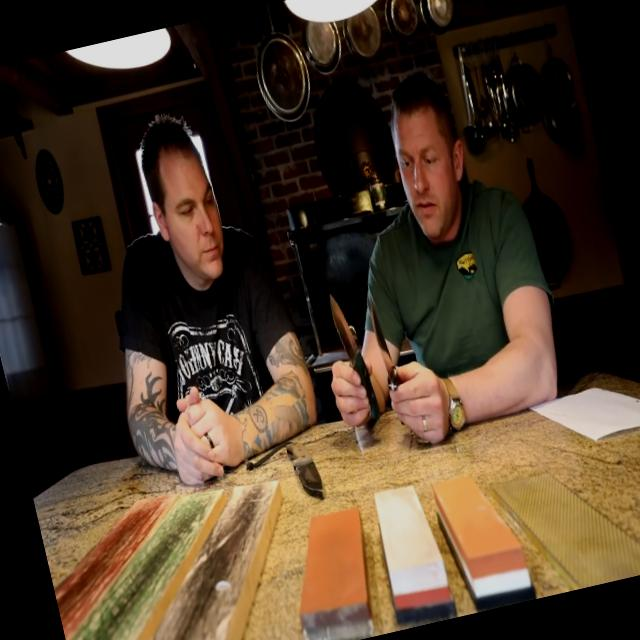knife: (359, 277, 444, 430), (304, 276, 378, 411)
